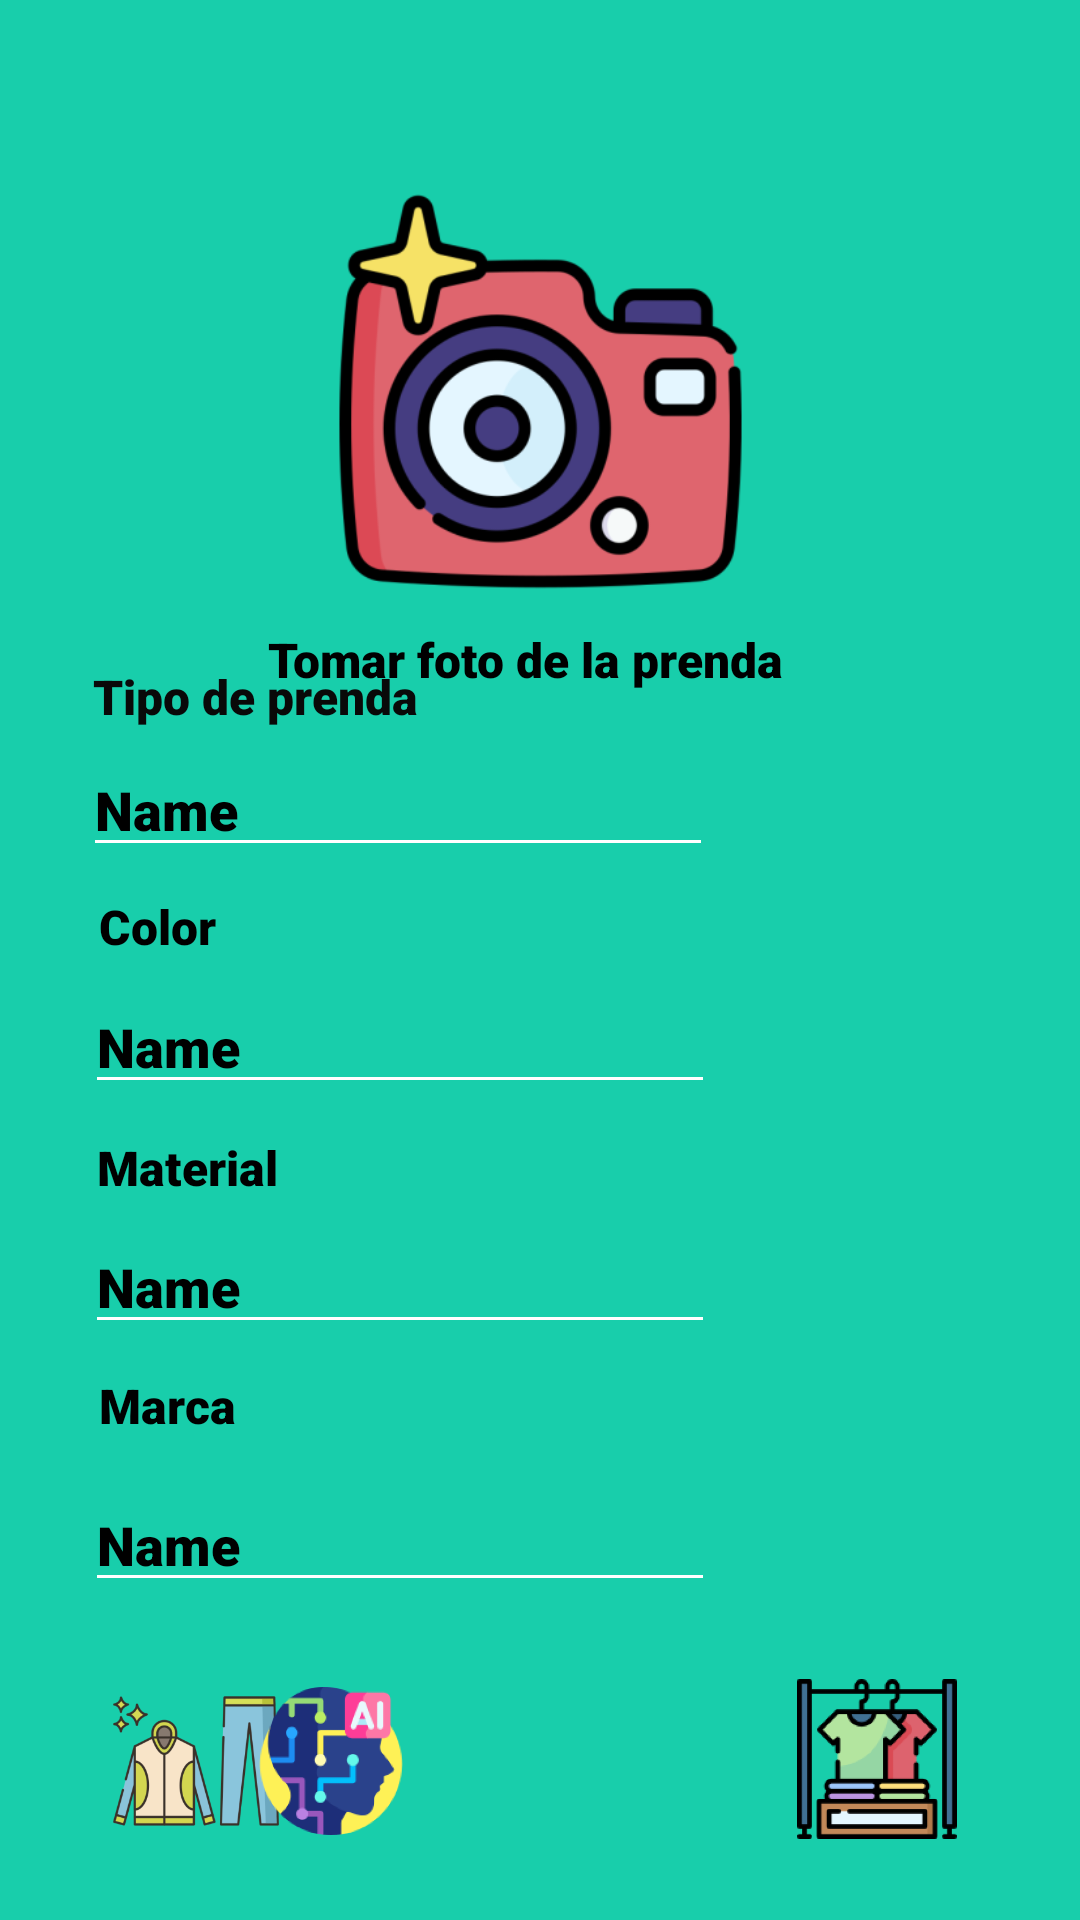

Screen size 1080x1920. Icon name, then its center in pixels as [x,y]:
ia crea outfit: [222,1761]
ia home: [311,1761]
tus prendas home: [877,1759]
